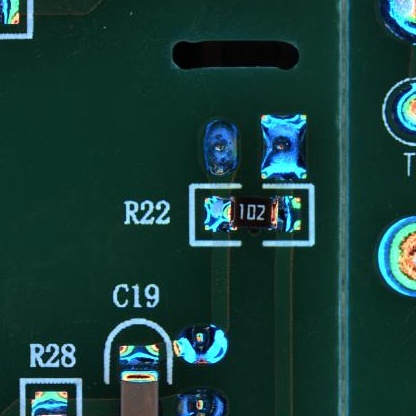spot: (260, 112, 309, 181), (199, 117, 242, 177), (172, 321, 230, 365), (176, 386, 227, 416)
